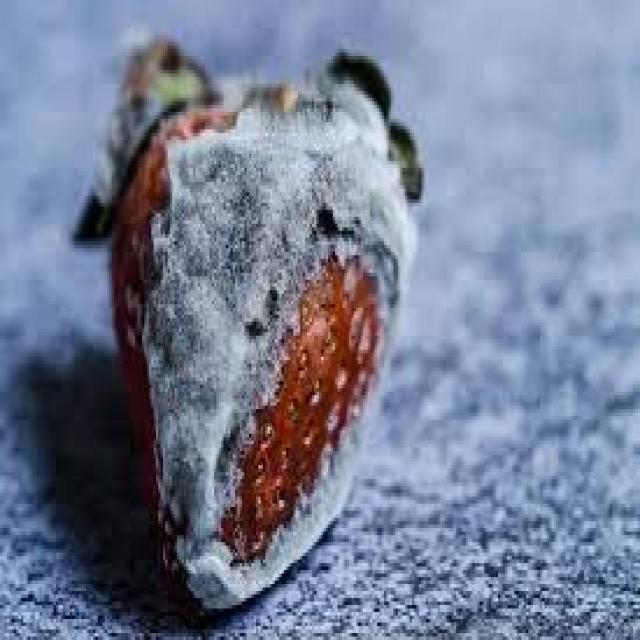Moho gris: (98, 52, 410, 604)
